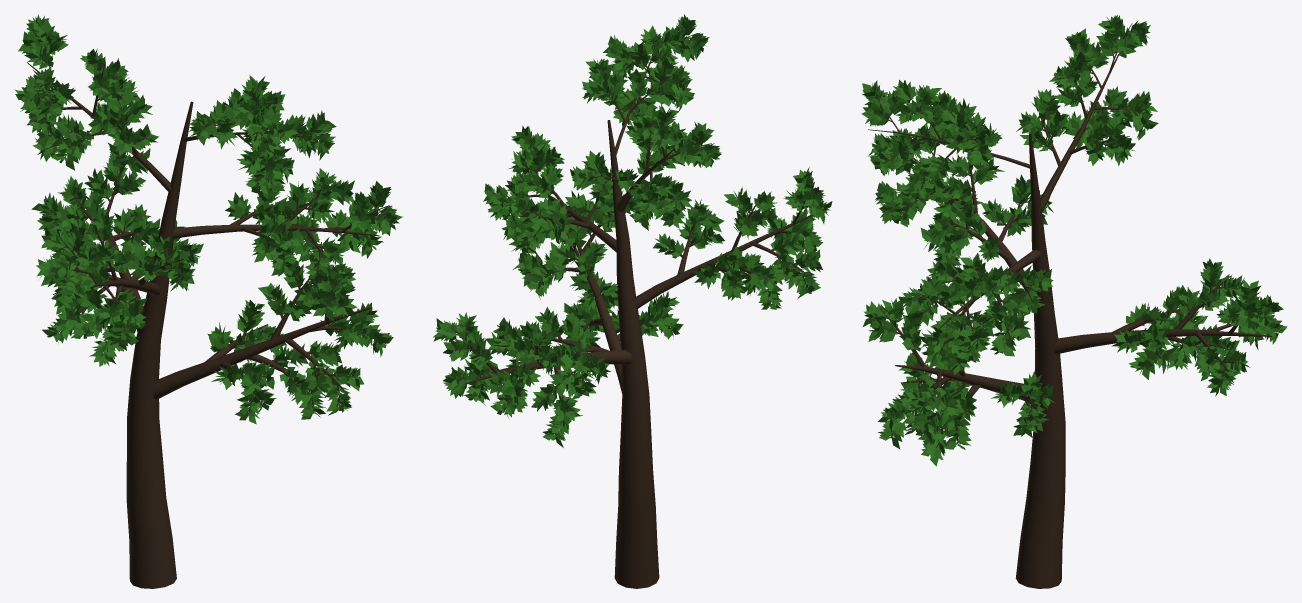
Rendered from tree_bush.obj.
The picture shows the model from 3 angles, left to right: view 1: azimuth 30°, elevation 25°; view 2: azimuth 150°, elevation 25°; view 3: azimuth 270°, elevation 25°; orthographic projection. The views are drawn at different scales.
Bounding box in the file's own units: 3.47 × 5.18 × 3.74.
